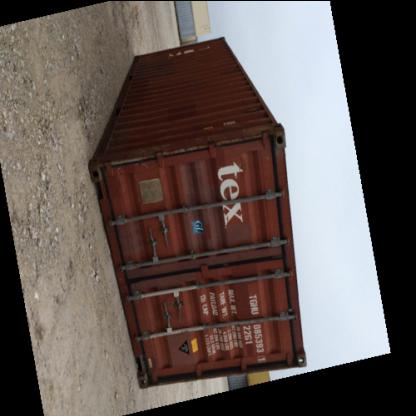Damage: (116, 223, 150, 254)
